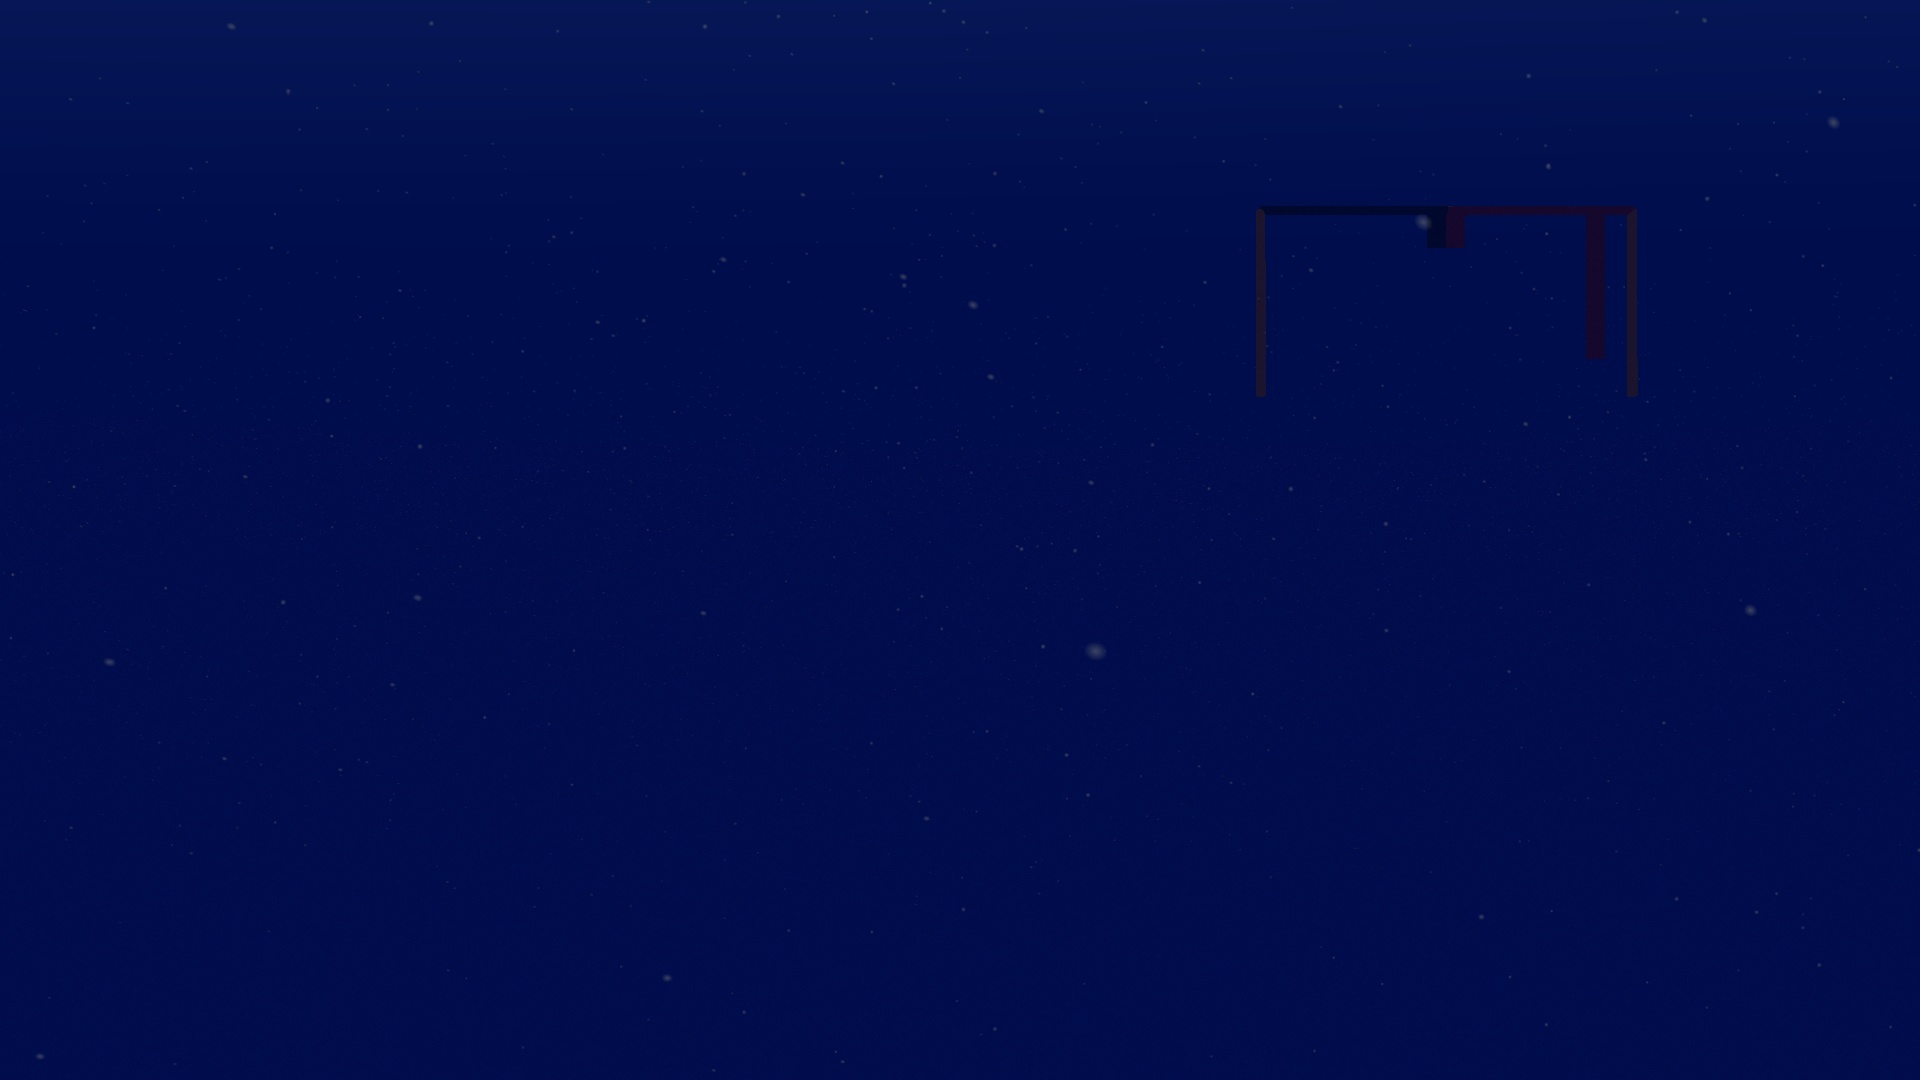Gate: (1250, 200, 1647, 407)
